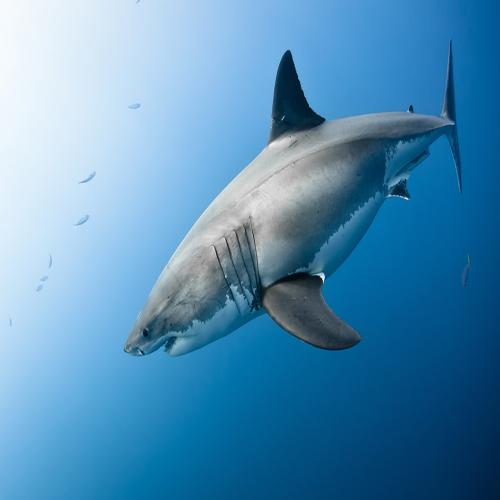shark-endangered: (105, 92, 460, 374)
